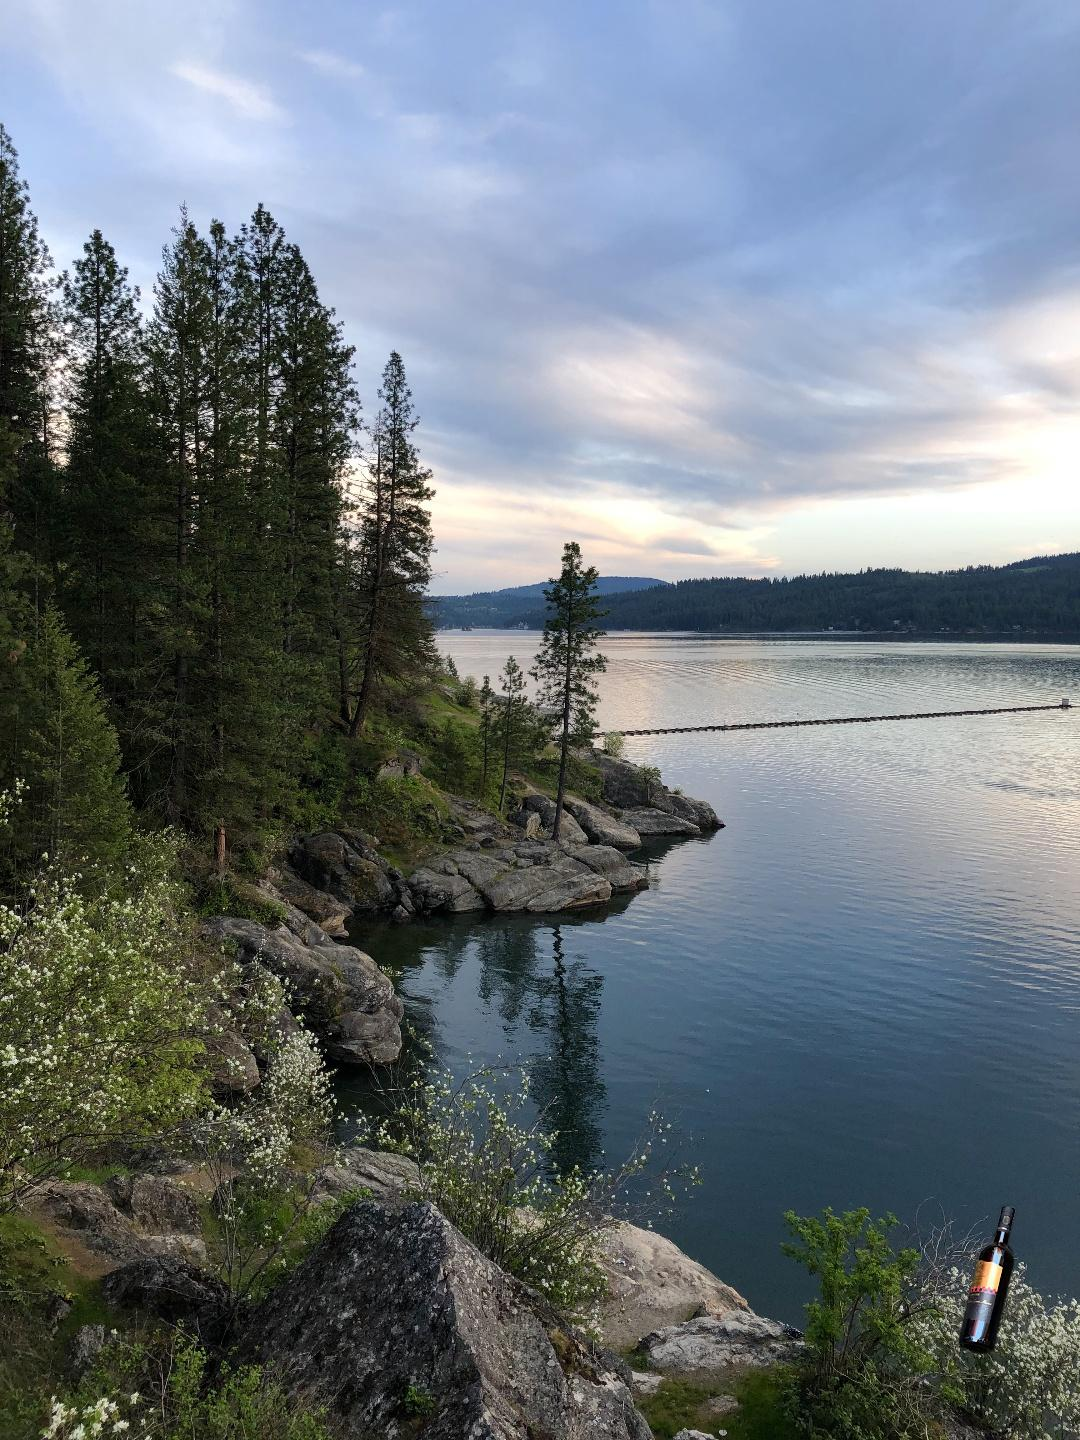glass: (746, 993, 1021, 1359)
